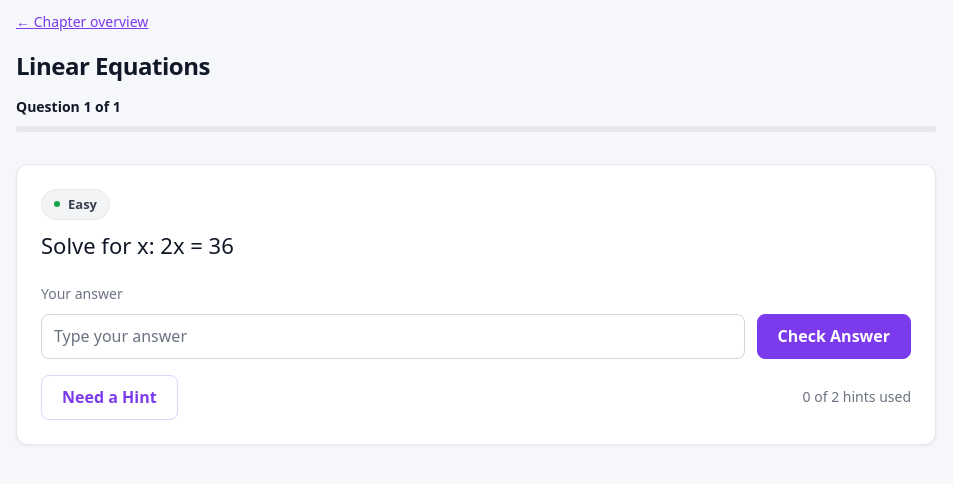
Test: QuestionPage - saving note for a newly created identity (S4a) › is not shown when startLearner fails
The image size is (953, 484).
Expected: the text "Solve for x: 2x = 36" is shown, x1=41 y1=230 x2=234 y2=260
Type "18" into the field with placeholder "Type your answer" at (393, 336), box x1=41 y1=314 x2=745 y2=359
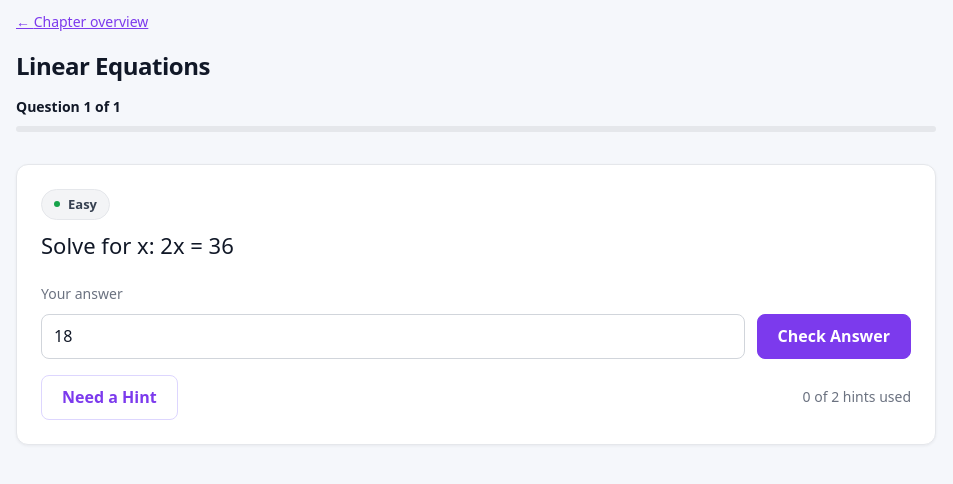
Click the button "Check Answer" at (834, 336), box x1=757 y1=314 x2=911 y2=359
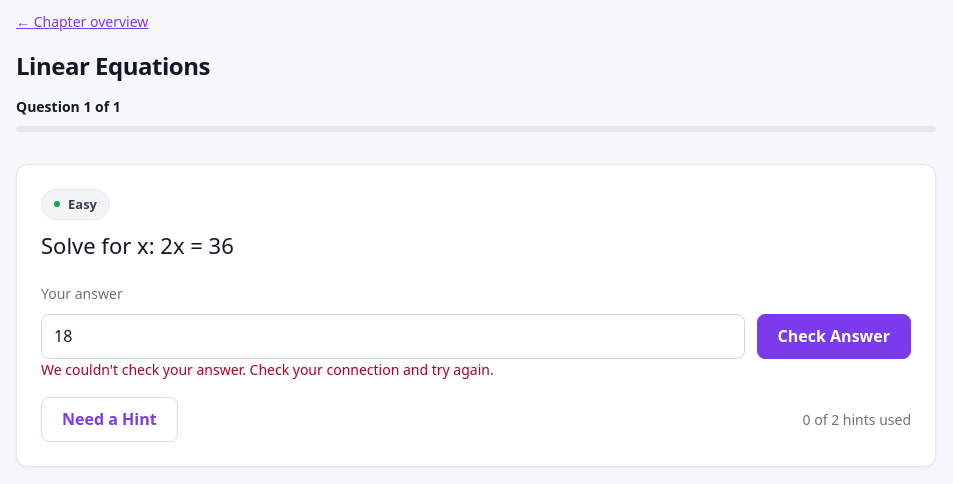
Result: the text "couldn't check your answer" is shown at x1=41 y1=360 x2=494 y2=379
